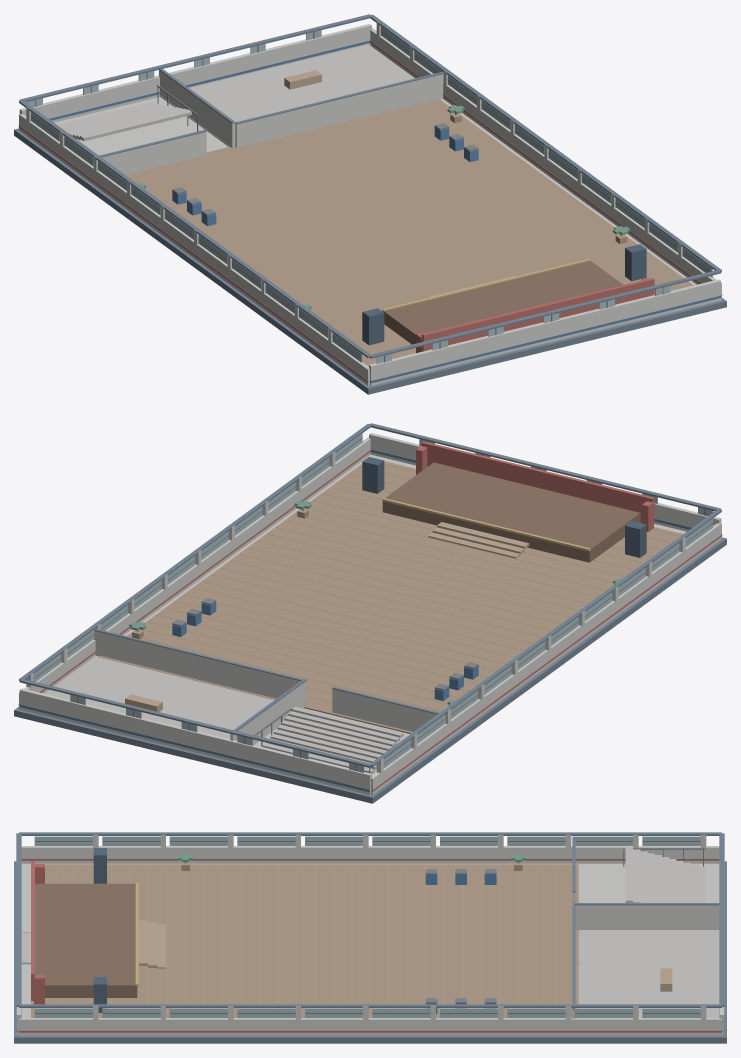
File: pavimento_3_CONCEITUAL.glb
3 views of the same model, one above another, from view 1: azimuth 30°, elevation 25°; view 2: azimuth 150°, elevation 25°; view 3: azimuth 270°, elevation 25° (orthographic).
Parts seen in each view (by area): view 1: world; view 2: world; view 3: world.
Part boxes in pixels (left/top/right/bottom): world: left=14, top=14, right=726, bottom=394; world: left=14, top=423, right=726, bottom=803; world: left=14, top=832, right=726, bottom=1043.
Size of the model in its own units: 22.55 by 2.35 by 38.55.
